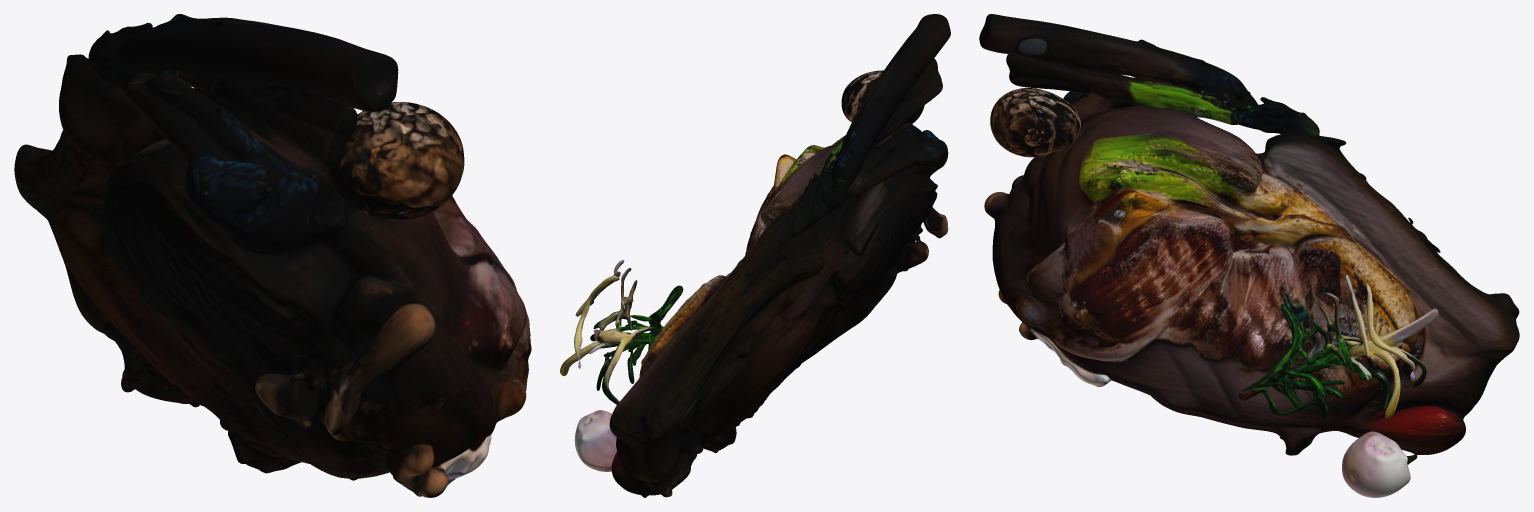
The model's file is realistic-steak-board.glb.
The picture shows the model from 3 angles, left to right: view 1: azimuth 30°, elevation 25°; view 2: azimuth 150°, elevation 25°; view 3: azimuth 270°, elevation 25°; orthographic projection. The views are drawn at different scales.
Visible parts, largest first — view 1: tripo_node_5b248456-122d-4617-8a5d-160a99fc3df6; view 2: tripo_node_5b248456-122d-4617-8a5d-160a99fc3df6; view 3: tripo_node_5b248456-122d-4617-8a5d-160a99fc3df6.
Part boxes in pixels (box(x1,y1,x2,y2)): tripo_node_5b248456-122d-4617-8a5d-160a99fc3df6: box(14, 14, 531, 497); tripo_node_5b248456-122d-4617-8a5d-160a99fc3df6: box(560, 14, 950, 497); tripo_node_5b248456-122d-4617-8a5d-160a99fc3df6: box(979, 14, 1519, 497).
Size of the model in its own units: 0.1627 by 0.2269 by 0.28.
Materials: 1 (1 with a texture image).
